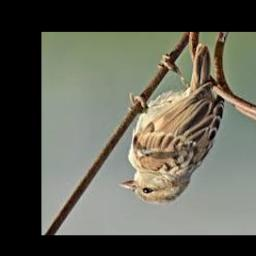Sparrow: (119, 43, 224, 204)
